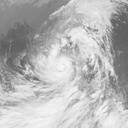cyclone: (29, 41, 89, 102)
